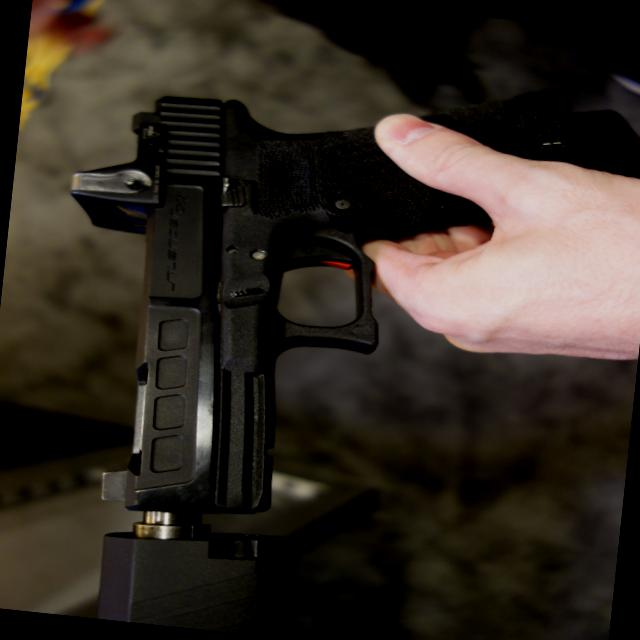handgun: (39, 38, 639, 573)
